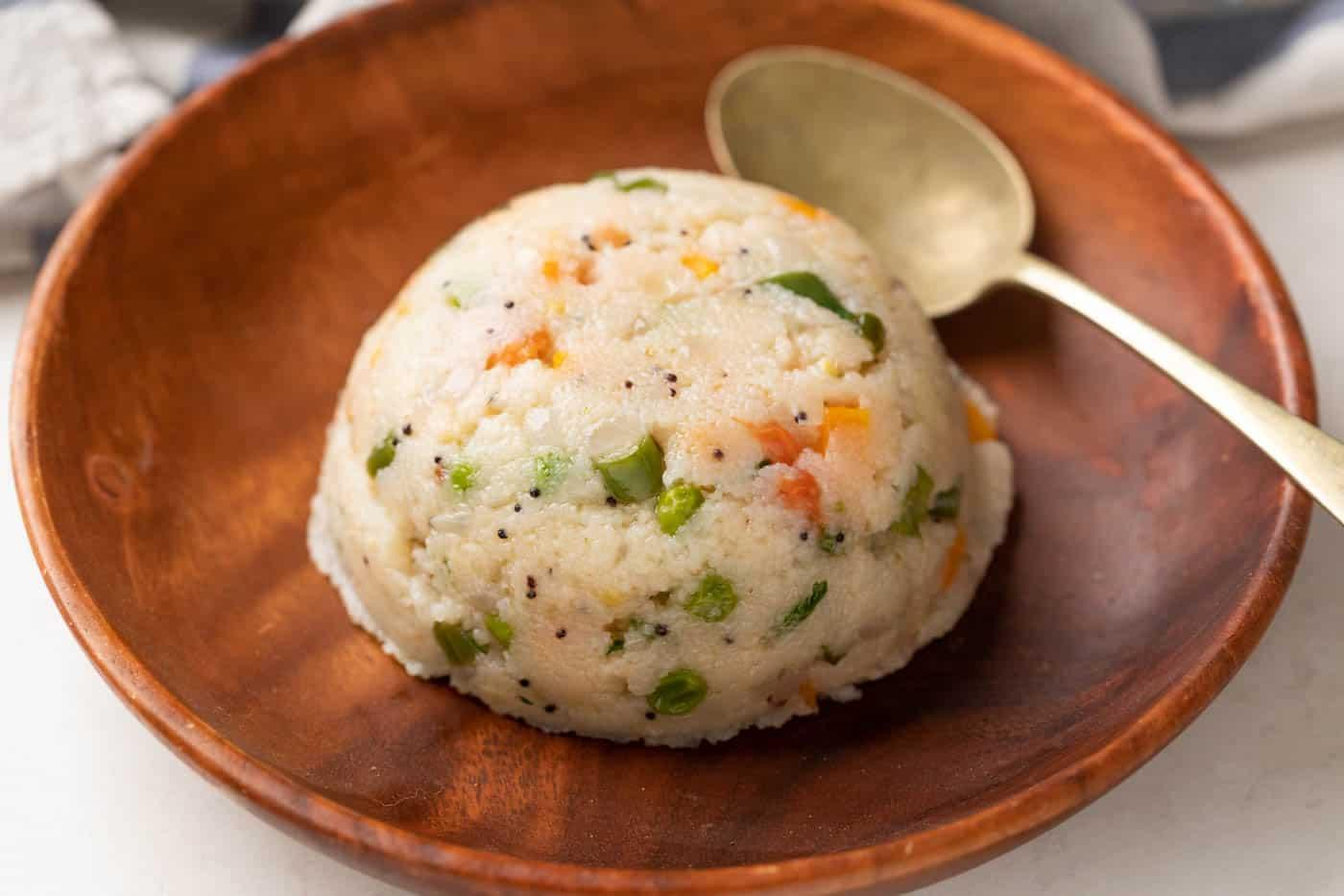upma: (303, 140, 1039, 731)
